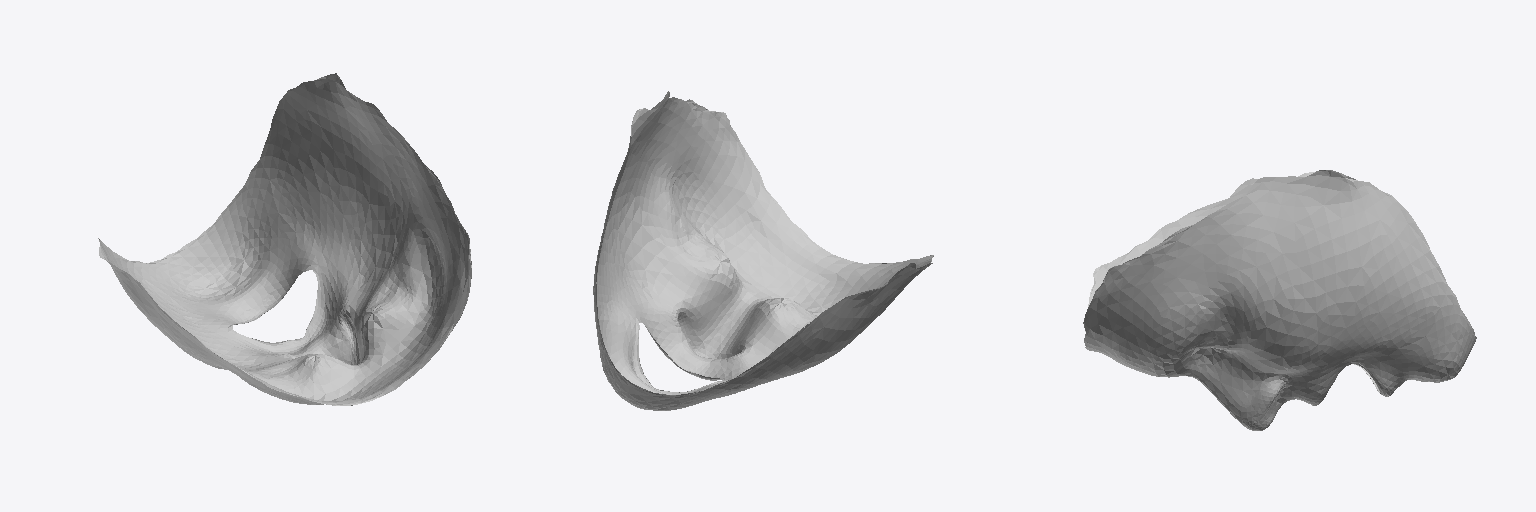
File: face_gab_sfm55.obj
3 views of the same model, side by side, from view 1: azimuth 30°, elevation 25°; view 2: azimuth 150°, elevation 25°; view 3: azimuth 270°, elevation 25° (orthographic).
Size of the model in its own units: 167 by 161 by 208.